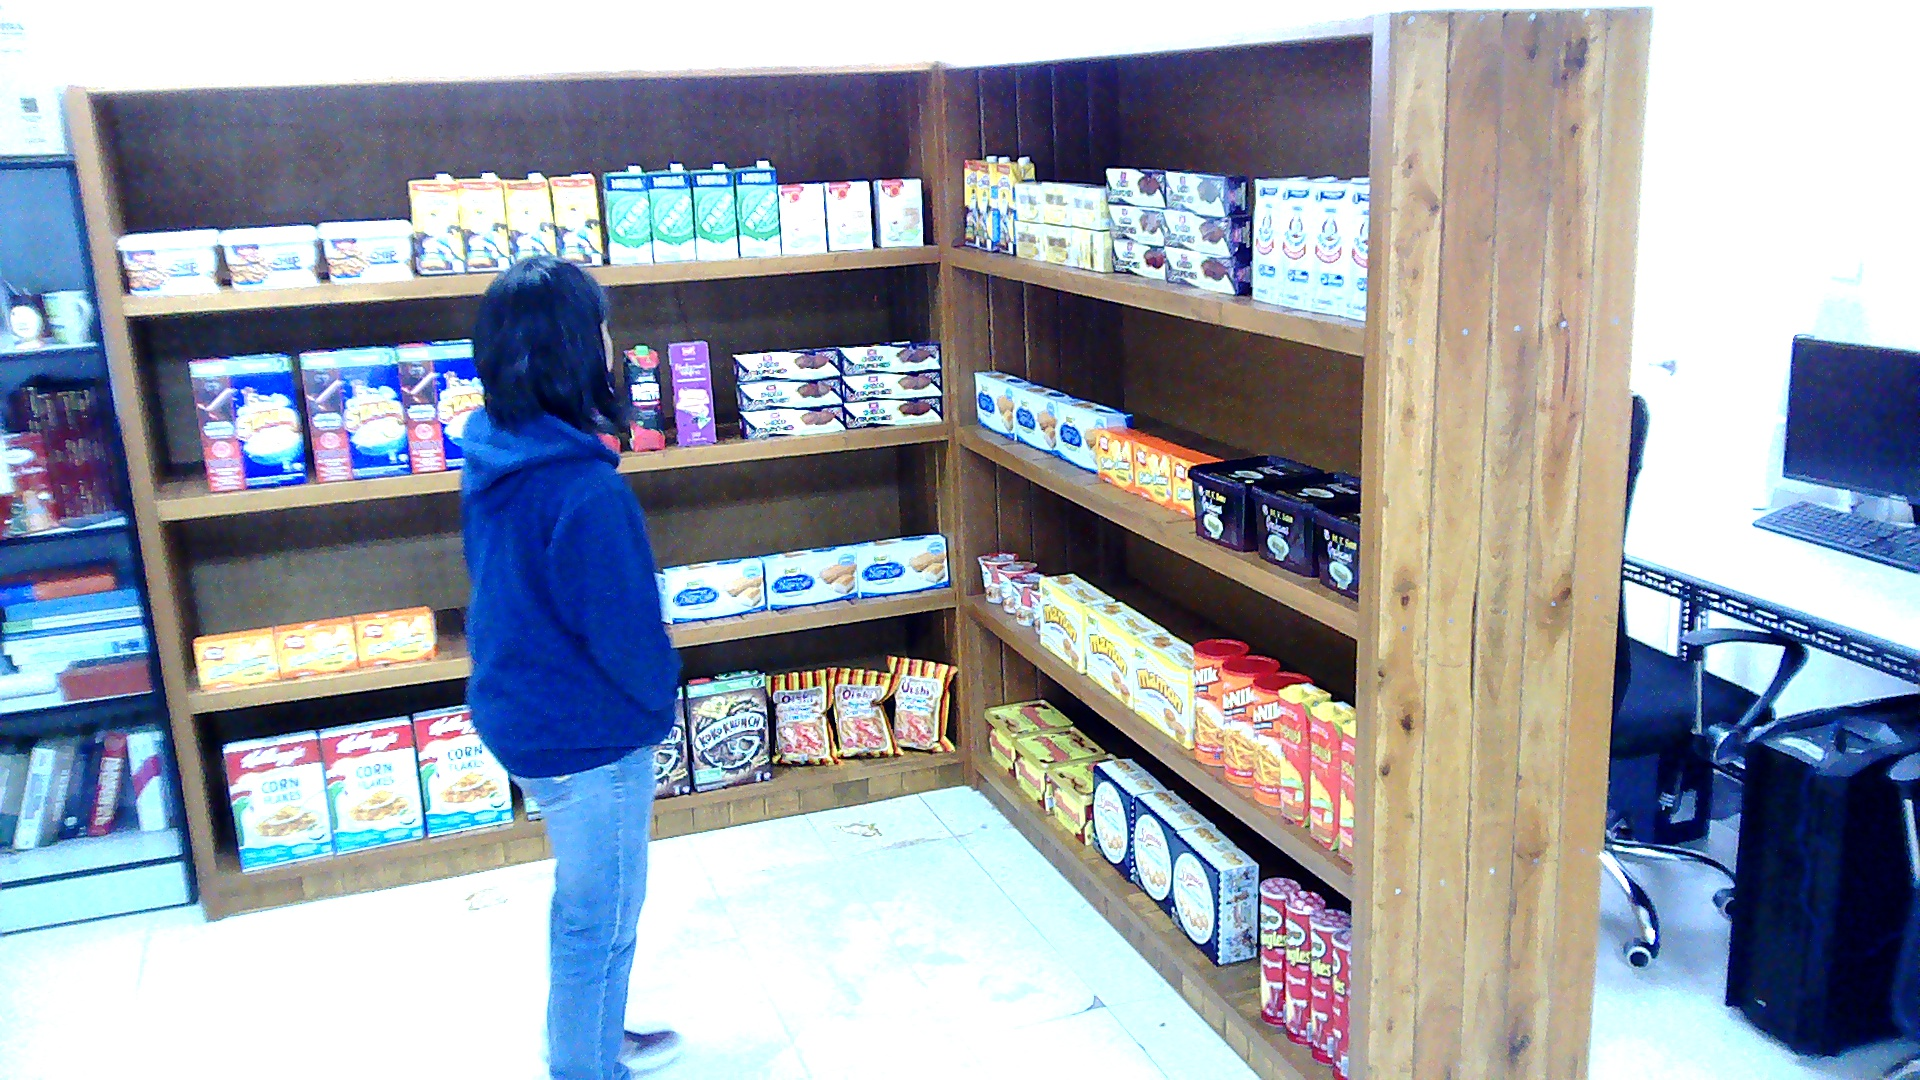Bear brand: (1310, 175, 1367, 315), (1278, 175, 1338, 308), (1341, 182, 1368, 322), (1251, 178, 1281, 304)
Buttercake: (653, 555, 764, 623), (852, 531, 948, 599), (759, 544, 858, 609), (1055, 396, 1130, 472), (1014, 383, 1068, 457), (975, 369, 1029, 441)
Butterlicious: (191, 625, 278, 690), (273, 614, 357, 677), (354, 605, 435, 666), (1131, 436, 1185, 508), (1098, 427, 1155, 492), (1169, 448, 1220, 518)
Camomille: (1068, 230, 1110, 270), (1071, 184, 1107, 229), (1014, 180, 1044, 220), (1043, 179, 1070, 224), (1013, 221, 1040, 261), (1041, 225, 1068, 265)
Choco Crunchies: (1163, 209, 1250, 256), (1163, 247, 1250, 294), (732, 344, 840, 380), (1164, 168, 1245, 215), (836, 340, 941, 376), (738, 405, 846, 439), (731, 378, 842, 410), (843, 396, 942, 428), (840, 369, 942, 401), (1104, 167, 1164, 207), (1107, 205, 1161, 245), (1113, 241, 1164, 281)
Chocolate Chips: (117, 227, 219, 295), (219, 222, 318, 287), (318, 218, 414, 279)
Chuckie: (408, 171, 465, 274), (456, 171, 510, 270), (549, 171, 603, 265), (503, 171, 554, 263), (995, 155, 1034, 254), (962, 153, 995, 247), (978, 155, 1008, 252)
Danisa: (1173, 826, 1257, 966), (1131, 789, 1215, 922), (1091, 756, 1166, 882)
Fresh Milk: (600, 164, 654, 265), (690, 161, 738, 258), (648, 161, 693, 260), (734, 159, 779, 256)
Grahams: (1187, 454, 1322, 551), (1247, 470, 1358, 576), (1311, 493, 1359, 601)
Hansel: (1010, 725, 1103, 815), (984, 697, 1074, 776), (1046, 752, 1115, 844)
Head: (462, 254, 630, 436)
Honey Stars: (185, 351, 308, 491), (297, 342, 408, 482), (393, 337, 483, 472)
Kellogg Corn Flakes: (219, 729, 333, 873), (318, 713, 423, 855), (411, 702, 513, 837)
Kimchi Noodles: (996, 560, 1038, 612), (975, 551, 1017, 603), (1008, 574, 1044, 626), (1028, 585, 1037, 634)
Koko Krunch: (683, 668, 770, 792), (654, 679, 690, 798)
Locally Mango: (1278, 682, 1332, 828), (1308, 702, 1356, 850), (1337, 718, 1352, 864)
Mamon: (1083, 601, 1167, 709), (1041, 573, 1113, 672), (1131, 630, 1191, 749)
Oishi Prawn: (765, 666, 843, 765), (885, 654, 957, 751), (827, 666, 902, 758)
Pik-nik: (1251, 670, 1311, 807), (1220, 654, 1277, 787), (1190, 639, 1247, 765)
Pringles: (1284, 891, 1326, 1046), (1311, 909, 1350, 1064), (1259, 875, 1298, 1026), (1332, 927, 1350, 1080), (1347, 952, 1350, 1001)
Super Fruits: (620, 344, 665, 450)
Wafer: (665, 340, 716, 446)
iHop: (821, 180, 872, 252), (777, 182, 825, 252), (873, 178, 921, 248)
